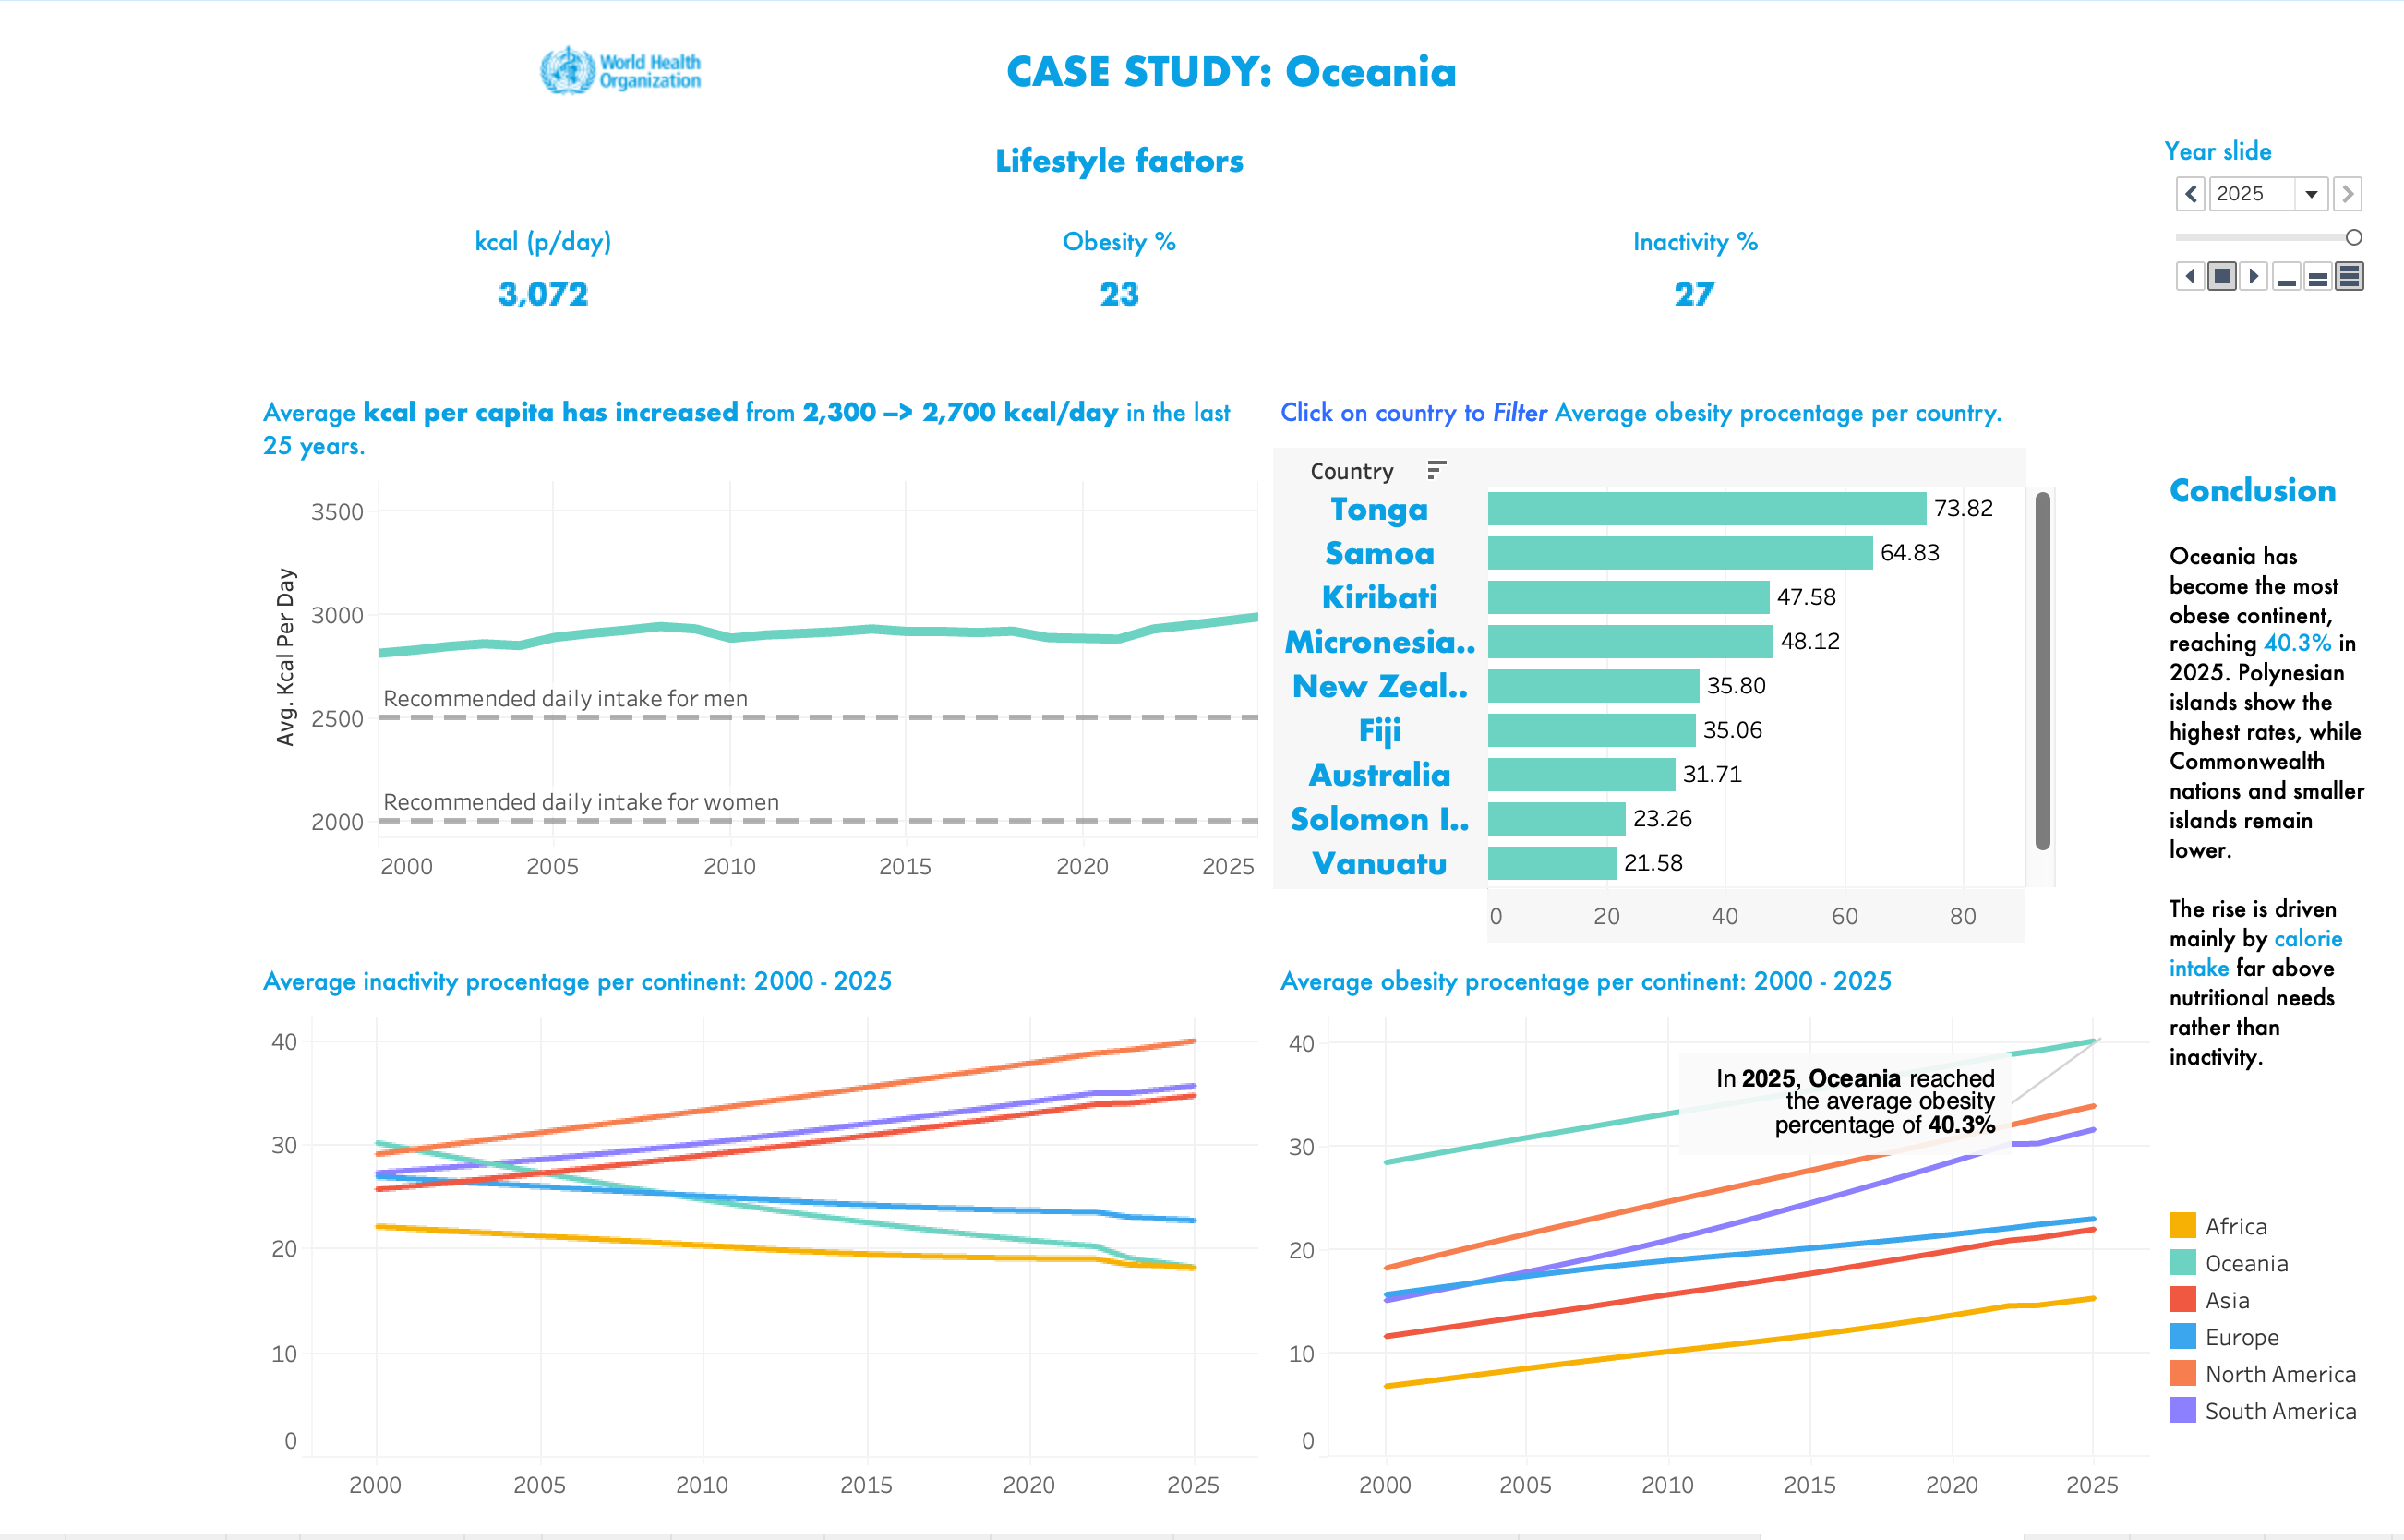

The page's visual inventory and layout, read from the dashboard file:
{"tool":"tableau","page":{"name":"Dashboard Oceania","canvas":[1000,1000],"units":"permille","ordinal":3},"visuals":[{"type":"image","box":[6.8,12.2,339,80.7]},{"type":"text","box":[345.9,12.2,647.3,80.7]},{"type":"worksheet","title":"KPI Oceania","mark":"Automatic","box":[6.8,92.8,986.3,156.4]},{"type":"worksheet","title":"LIFE_EXp_oceania","mark":"Automatic","rows":["life_expectancy"],"cols":["year"],"box":[6.8,249.2,474.8,299.4]},{"type":"worksheet","title":"Countries Oceania (2)","mark":"Automatic","rows":["country"],"cols":["obesity_procent"],"box":[481.6,249.2,414.2,299.4]},{"type":"currpage","title":"KPI Oceania","box":[895.8,249.2,97.4,175]},{"type":"currpage","title":"KCal Oceania","box":[895.8,424.3,97.4,106.5]},{"type":"legend","title":"Obesity","param":"[federated.03ces6k0pas0ll14670pz1yx39q4].[none:continent_full:nk]","box":[895.8,530.8,97.4,222.2]},{"type":"worksheet","title":"KCal Oceania","mark":"Automatic","rows":["kcal_per_day"],"cols":["year"],"box":[6.8,548.6,474.8,439.2]},{"type":"worksheet","title":"Obesity","mark":"Automatic","rows":["obesity_procent"],"cols":["year"],"box":[481.6,548.6,414.2,439.2]}]}

Visuals, with their boxes on the dashboard's canvas, which has no fixed pixel size, in thousandths of its width and height (x1, y1, x2, y2). These are canvas units, not pixel positions in the 2404x1540 screenshot, which may show the page scaled, cropped or inside an application window:
image: 7 12 346 93
text: 346 12 993 93
"KPI Oceania" worksheet: 7 93 993 249
"LIFE_EXp_oceania" worksheet: 7 249 482 549
"Countries Oceania (2)" worksheet: 482 249 896 549
"KPI Oceania" currpage: 896 249 993 424
"KCal Oceania" currpage: 896 424 993 531
"Obesity" legend: 896 531 993 753
"KCal Oceania" worksheet: 7 549 482 988
"Obesity" worksheet: 482 549 896 988
